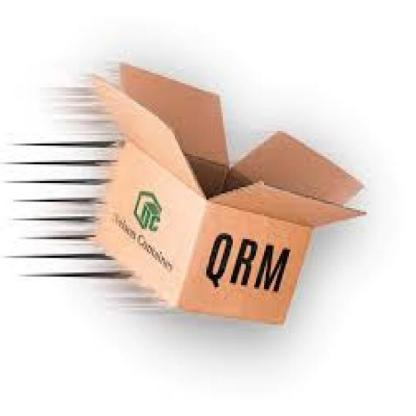-: (90, 64, 365, 325)
